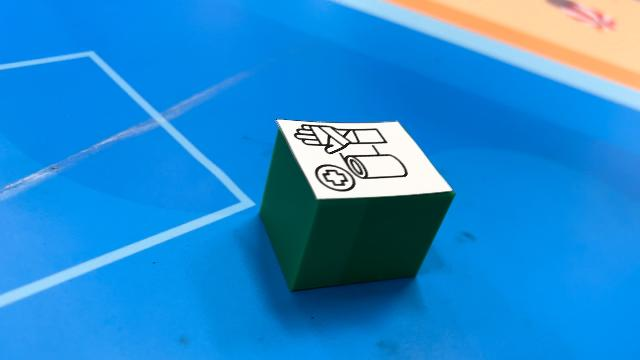bandage: (258, 119, 456, 291)
